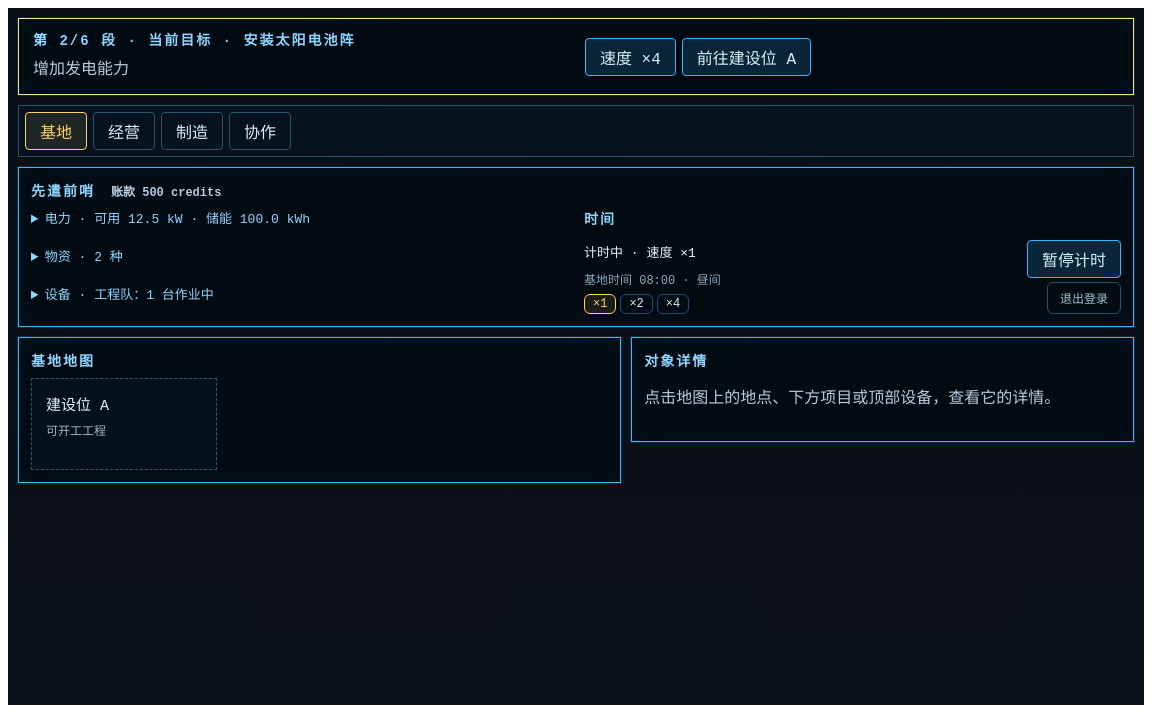
Test case: BaseShell › 从地图选择建设位后进入详情，切换工作区再回来仍保留选择
Expected: the heading "第 2/6 段 · 当前目标 · 安装太阳电池阵" is shown, [33,33,355,49]
Click the button "建设位 A 可开工工程" at [124, 424], box [31,378,217,470]
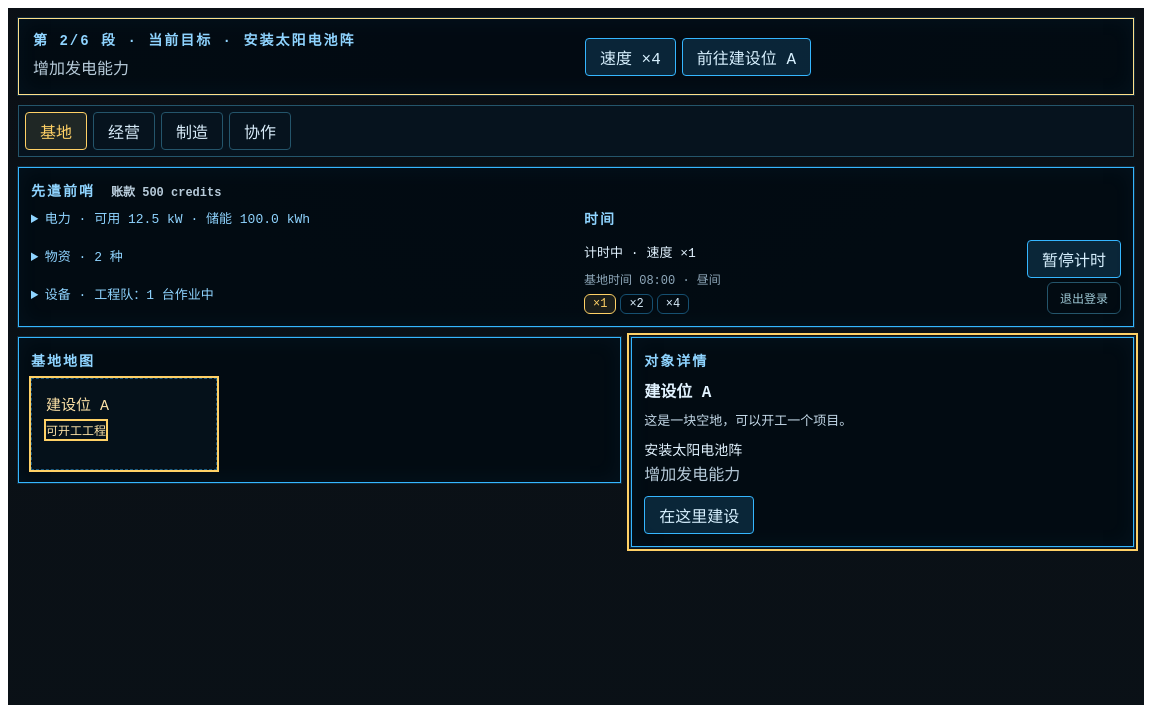
Now the button "在这里建设" is shown, box [644,496,754,534]
Click the button "经营" at [124, 131], box [93,112,155,150]
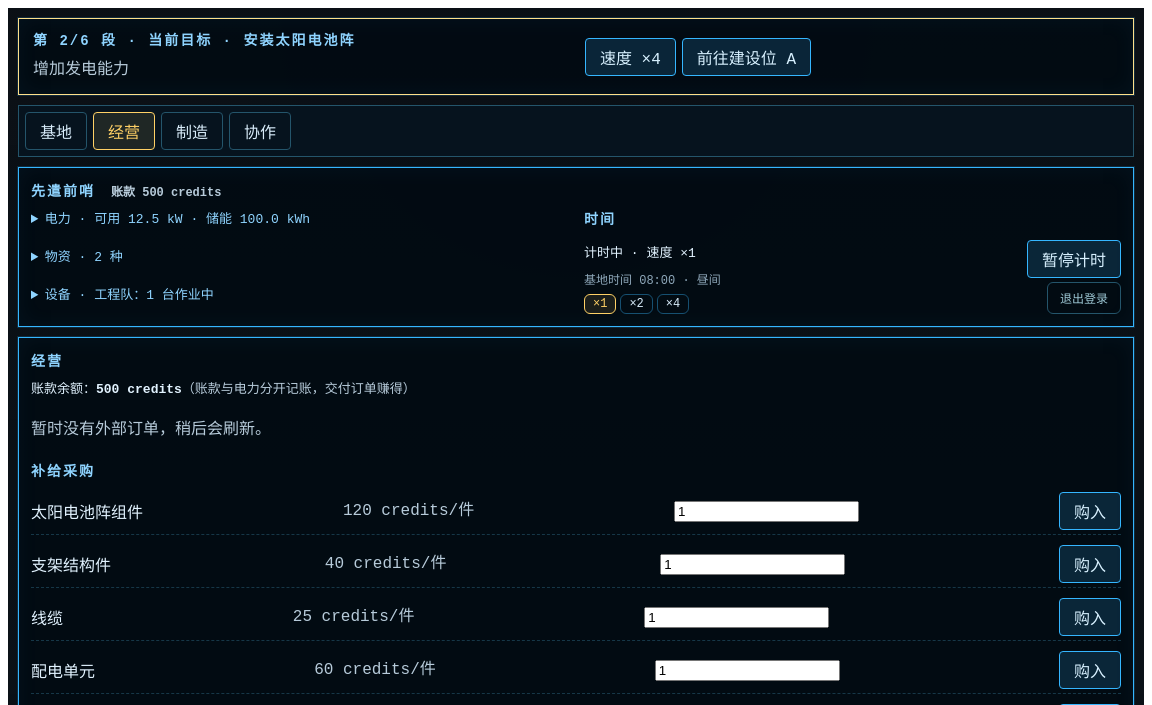
Click the button "基地" at [56, 131], box [25,112,87,150]
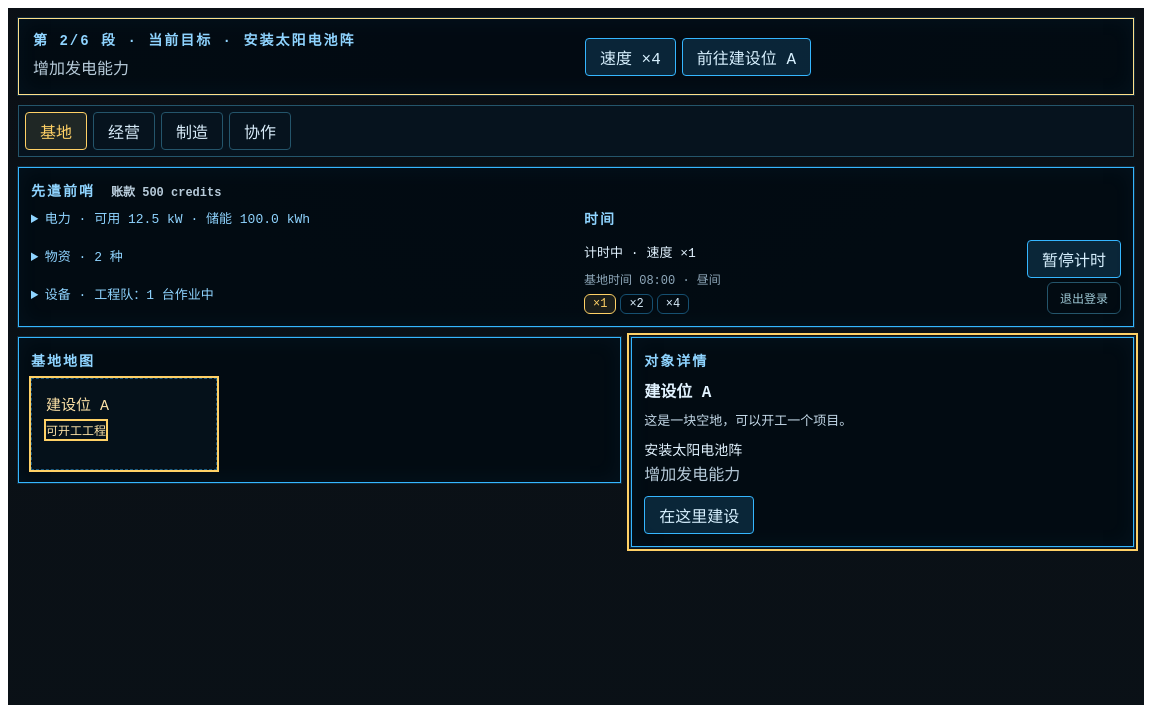
Now the button "在这里建设" is shown, box [644,496,754,534]
